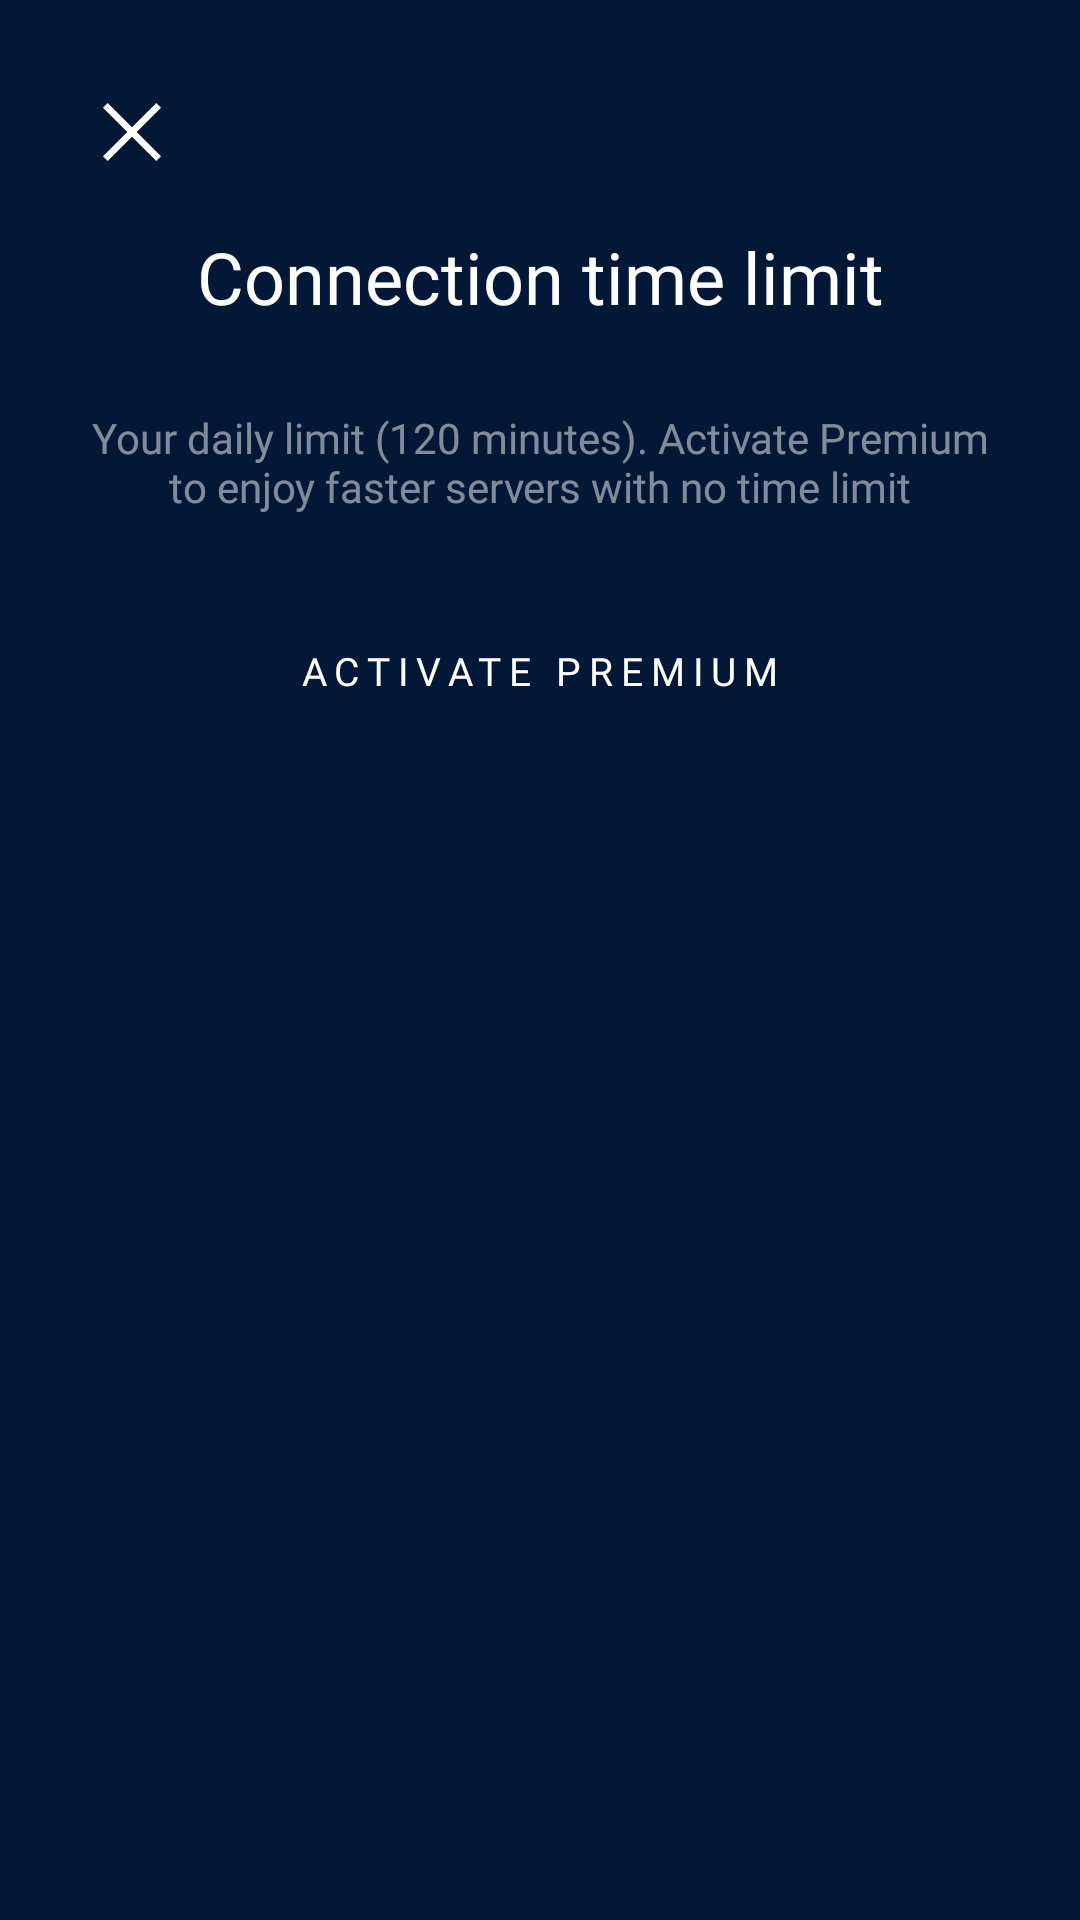

Icon click points for this 1080x1920 phone screenshot, format point (x, y):
delete: point (132, 132)
